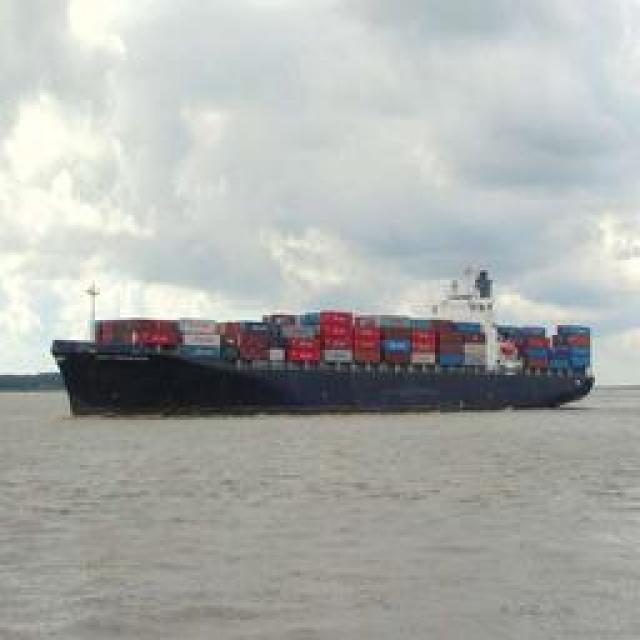CIV_Ship: (45, 268, 598, 418)
